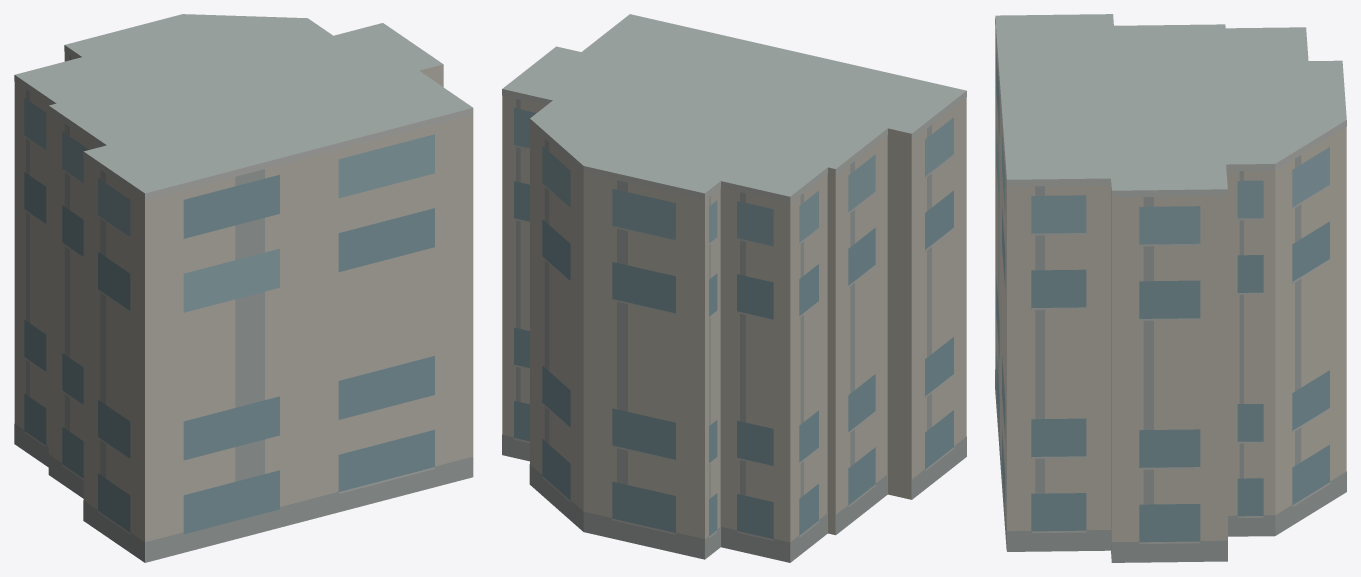
The model's file is survey-upis-32874577.glb.
3 views of the same model, side by side, from view 1: azimuth 30°, elevation 25°; view 2: azimuth 150°, elevation 25°; view 3: azimuth 270°, elevation 25° (orthographic).
Parts seen in each view (by area): view 1: survey-upis-32874577.tmp; view 2: survey-upis-32874577.tmp; view 3: survey-upis-32874577.tmp.
Boxes of the visible parts, x1=… form: survey-upis-32874577.tmp: x1=14, y1=14, x2=473, y2=562; survey-upis-32874577.tmp: x1=502, y1=14, x2=966, y2=562; survey-upis-32874577.tmp: x1=995, y1=14, x2=1346, y2=562.
Bounding box in the file's own units: 13.55 × 13.3 × 11.4.
